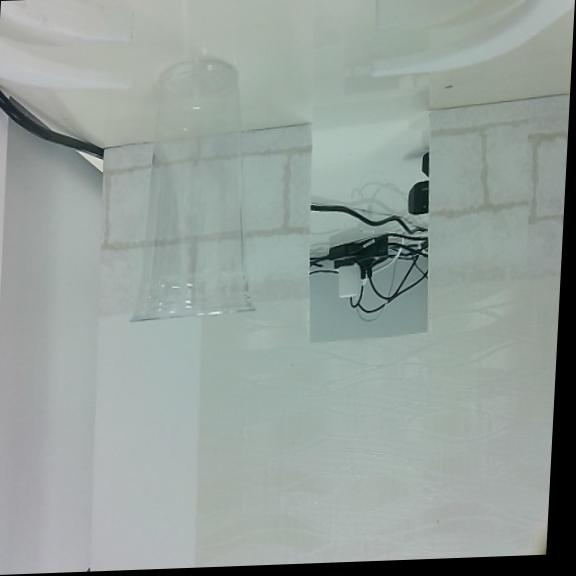Plastik: (131, 61, 249, 319)
